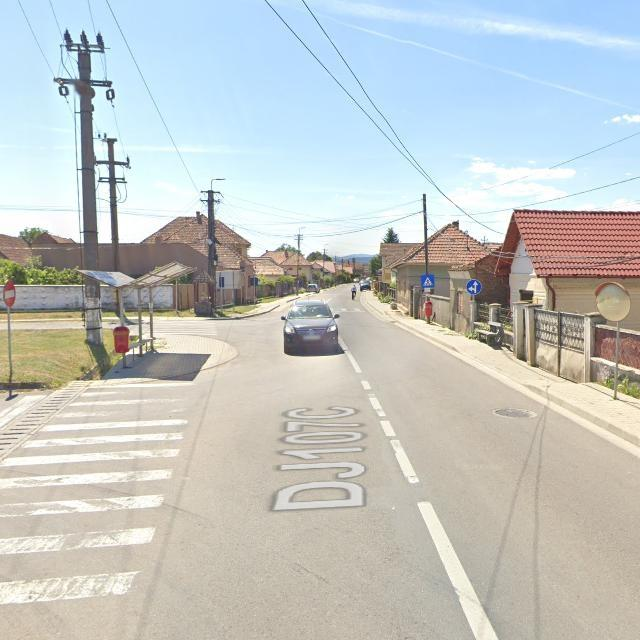info_crosswalk: (421, 274, 435, 288)
